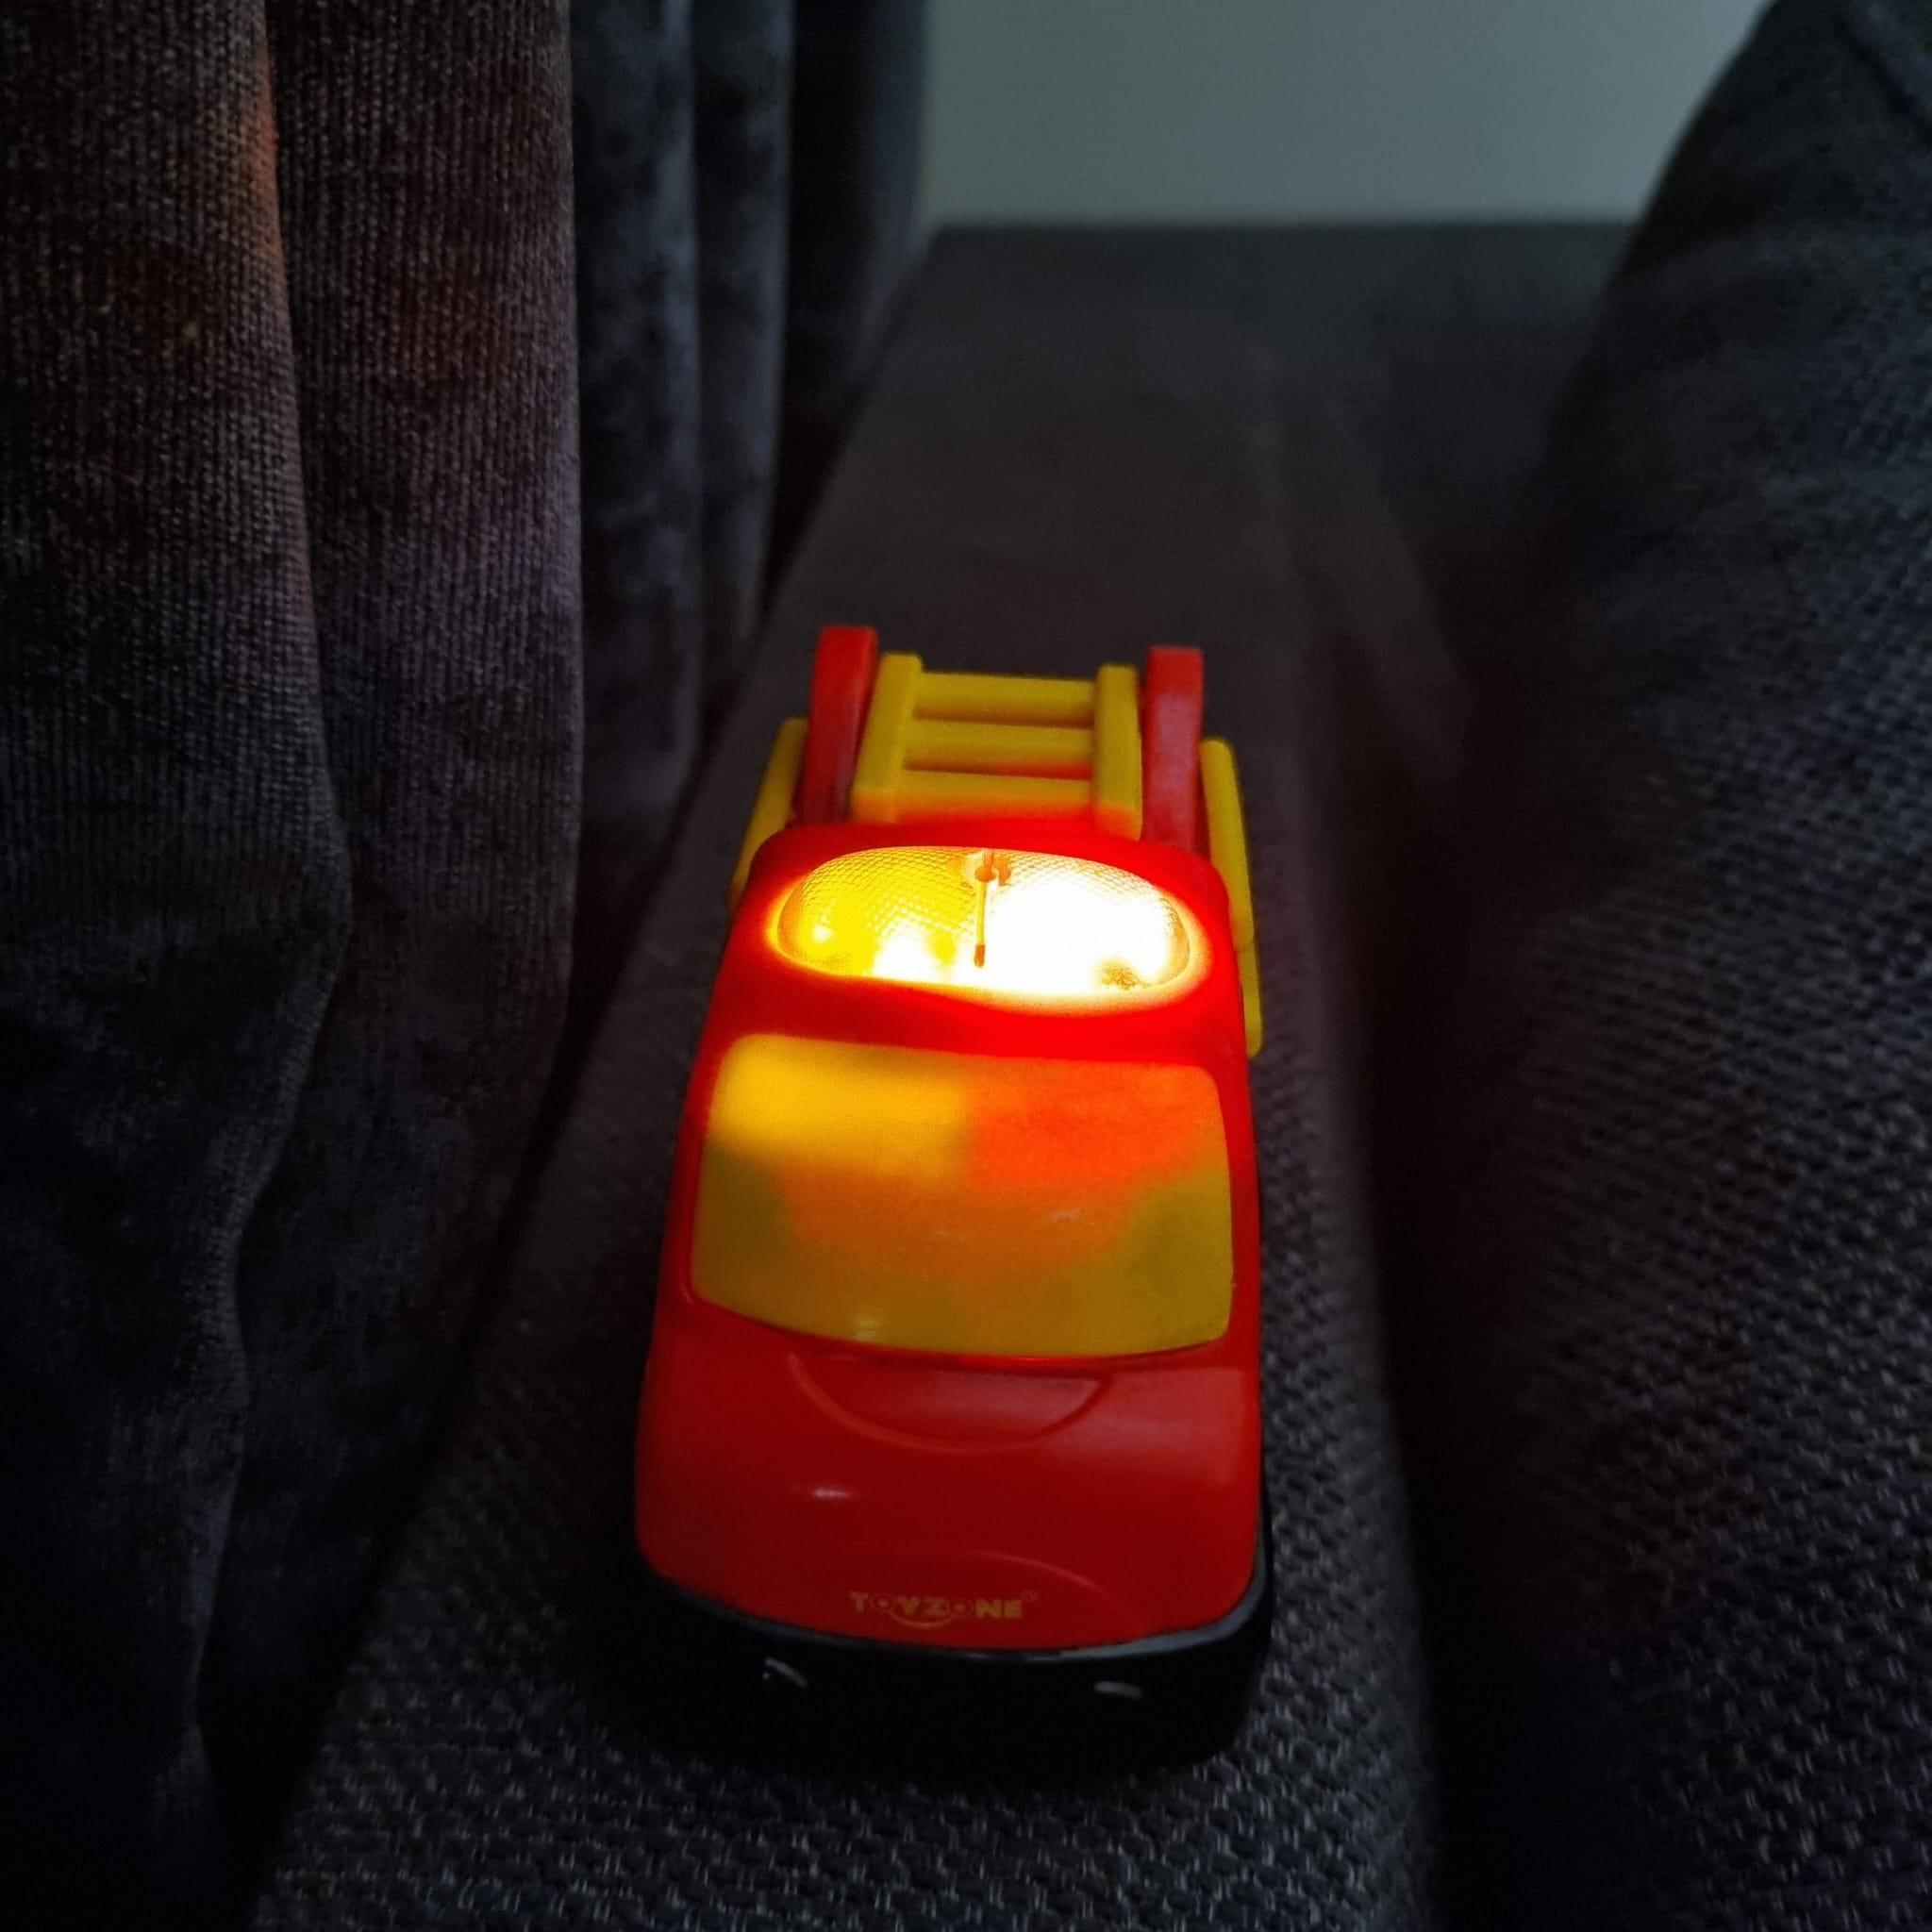firetruck_on: (614, 623, 1283, 1787)
